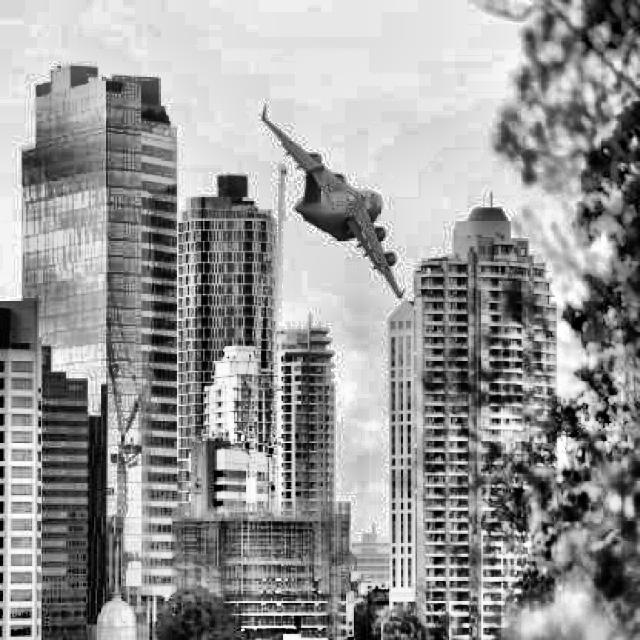C17: (262, 104, 406, 299)
